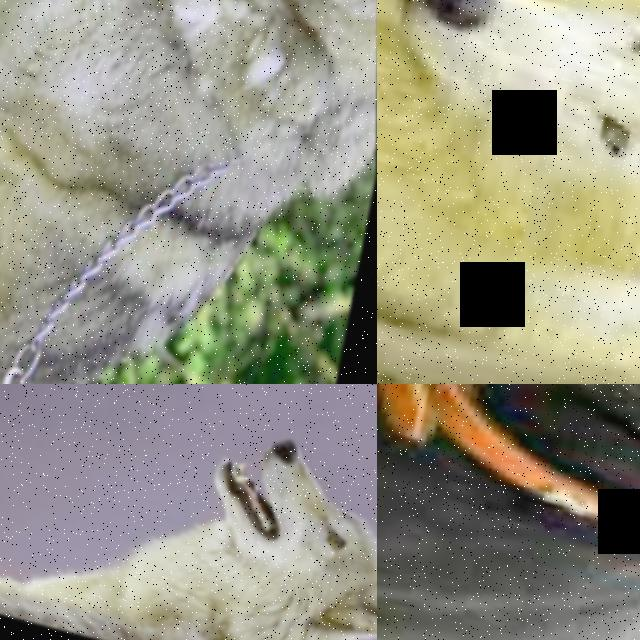dog: (377, 384, 640, 640)
wolf: (0, 0, 377, 384), (377, 0, 640, 384), (56, 384, 377, 640), (377, 78, 640, 384), (0, 448, 377, 640), (0, 384, 377, 475)
